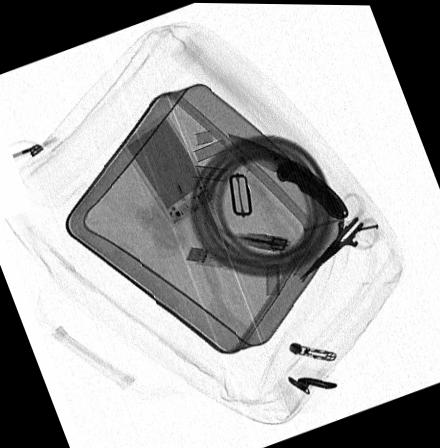Knife: (227, 130, 349, 218)
Powerbank: (118, 111, 218, 225)
Scissors: (298, 189, 379, 277)
